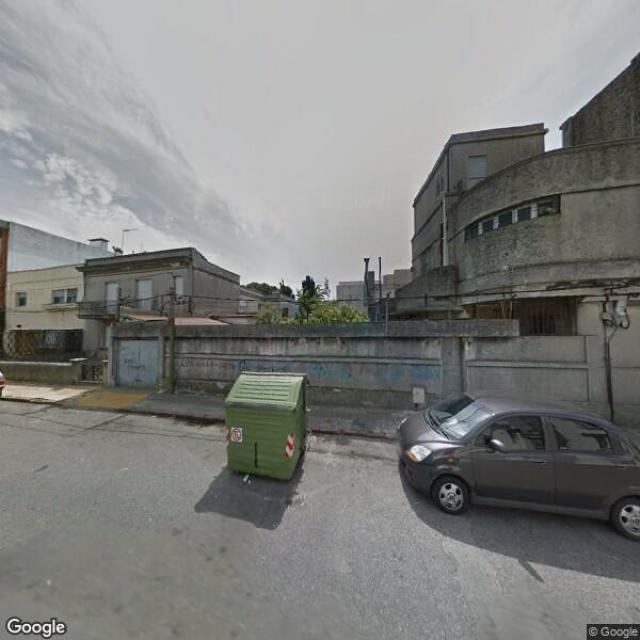garbage container: (220, 364, 319, 492)
